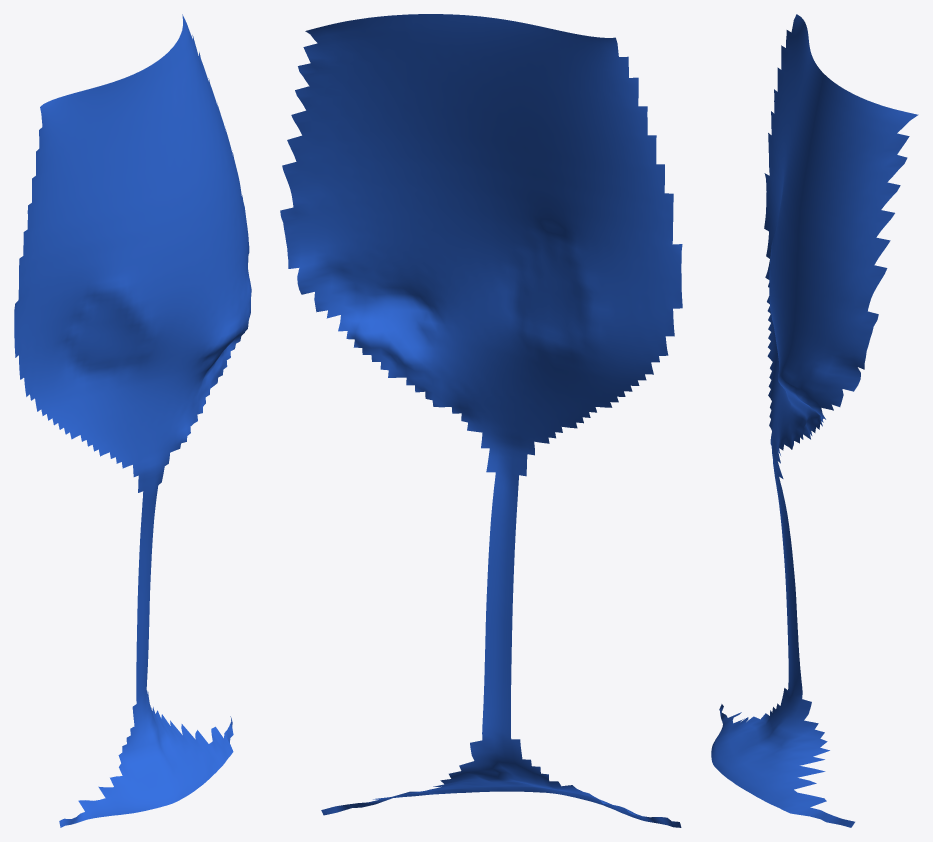
The model's file is wineglass_SFS.glb.
3 renders of one model, left to right at view 1: azimuth 30°, elevation 25°; view 2: azimuth 150°, elevation 25°; view 3: azimuth 270°, elevation 25°, orthographic. The views are drawn at different scales.
Visible parts, largest first — view 1: main-sfs-wineglass; view 2: main-sfs-wineglass; view 3: main-sfs-wineglass.
Boxes of the visible parts, x1,y1,x2,y2 form: main-sfs-wineglass: [14, 14, 251, 827]; main-sfs-wineglass: [280, 14, 682, 827]; main-sfs-wineglass: [711, 14, 918, 827].
Bounding box in the file's own units: 0.49 × 1.14 × 0.3042.
